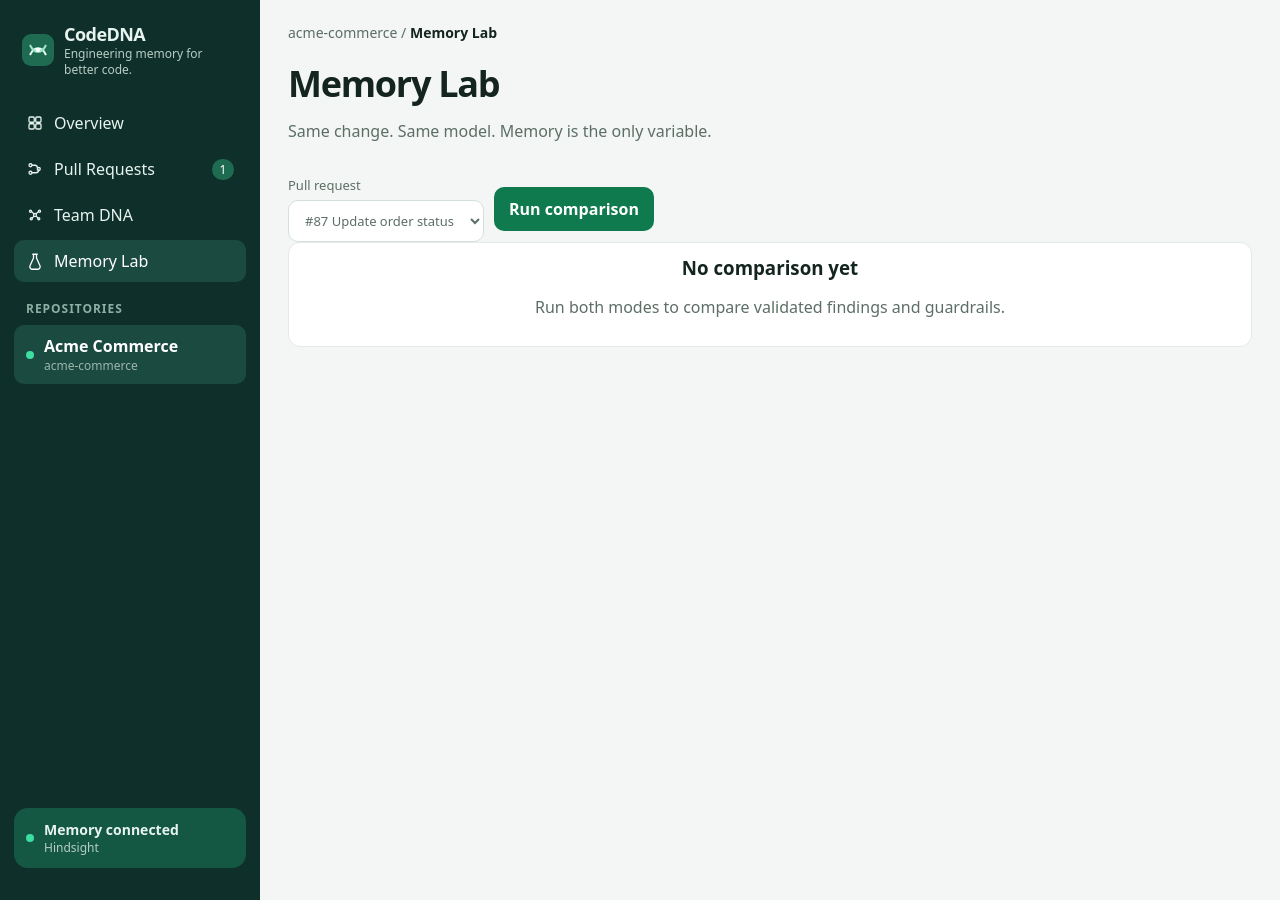
Test: shows a memory-lab trace only for recorded timings and lists guardrails
This screenshot has width=1280, height=900.
Expected: the text "Memory connected" is shown, top-left (44, 820), bottom-right (179, 839)
Click the button "Run comparison" at (574, 209), box top-left (494, 187), bottom-right (654, 231)
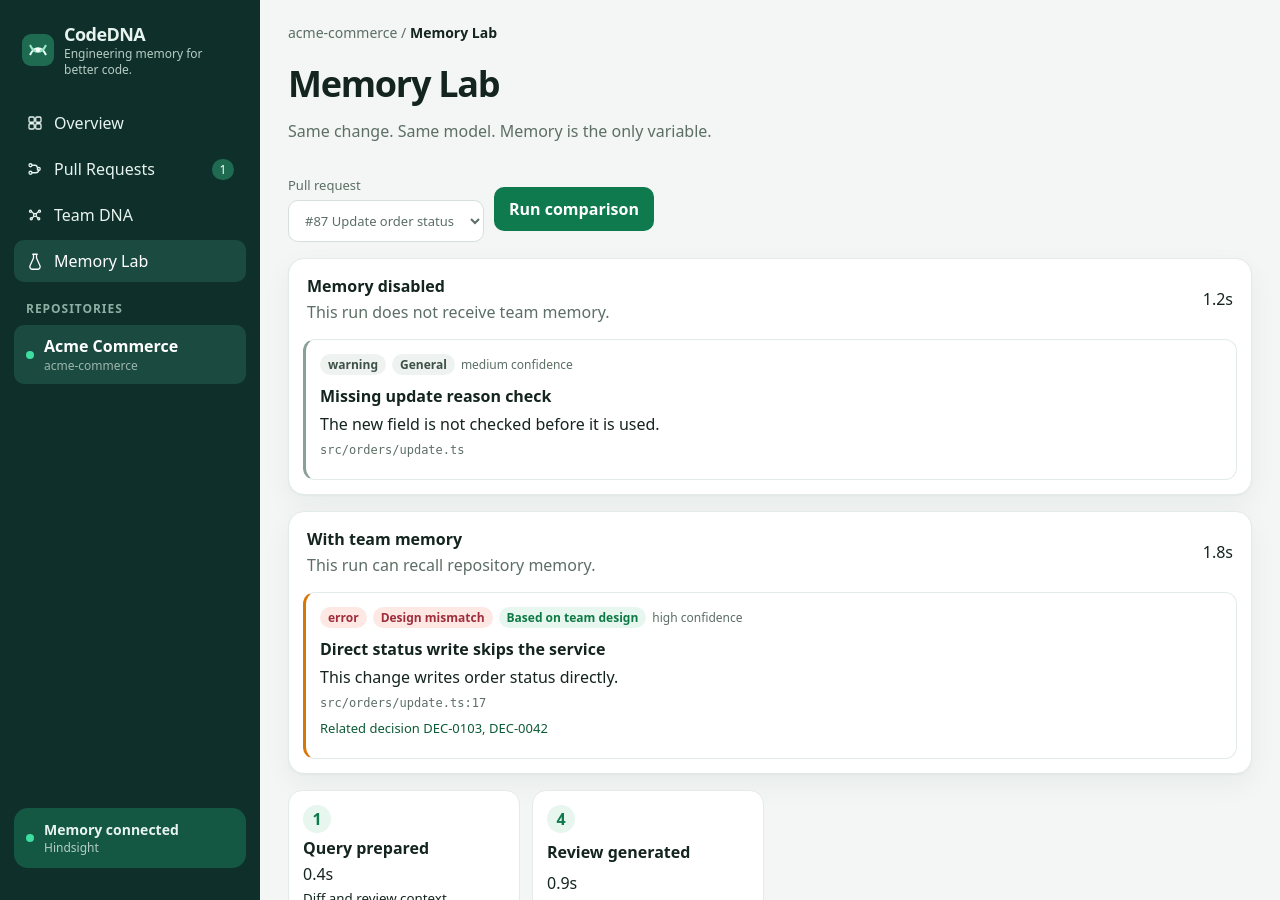
Now the text "0.4s" is shown, box top-left (303, 863), bottom-right (333, 885)
Now the text "0.9s" is shown, box top-left (547, 872), bottom-right (577, 894)
Now the text "Design mismatch" is shown, box top-left (373, 607), bottom-right (492, 628)
